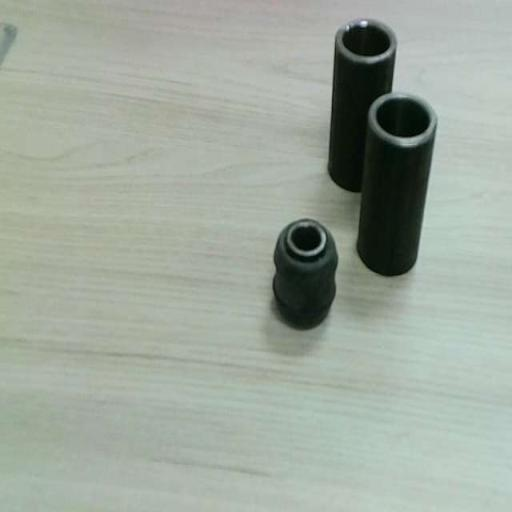peca: (328, 19, 435, 275), (273, 220, 337, 325)
